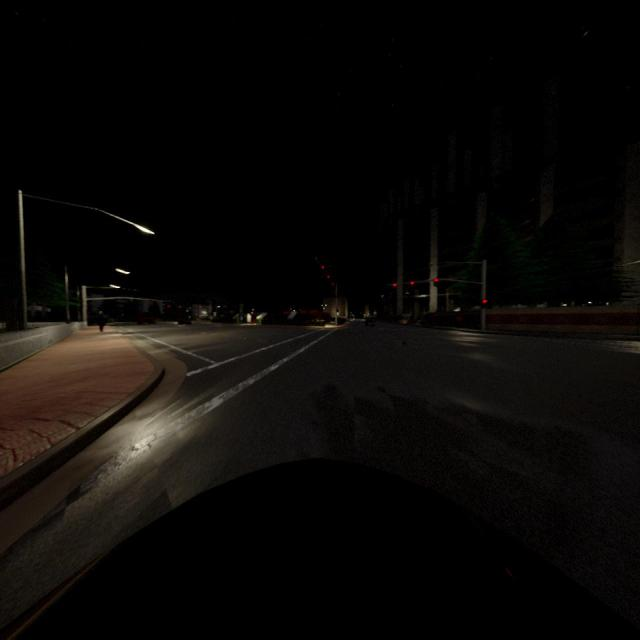Pedestrian: (98, 312, 105, 332)
Vehicle: (0, 459, 640, 640), (136, 312, 156, 325), (364, 314, 378, 328)
traffic_light: (481, 299, 488, 309), (433, 278, 439, 286), (321, 265, 325, 270), (392, 283, 397, 287), (336, 306, 339, 312), (410, 280, 414, 284), (178, 305, 182, 309), (327, 274, 330, 278), (168, 304, 170, 308), (332, 283, 334, 285)
